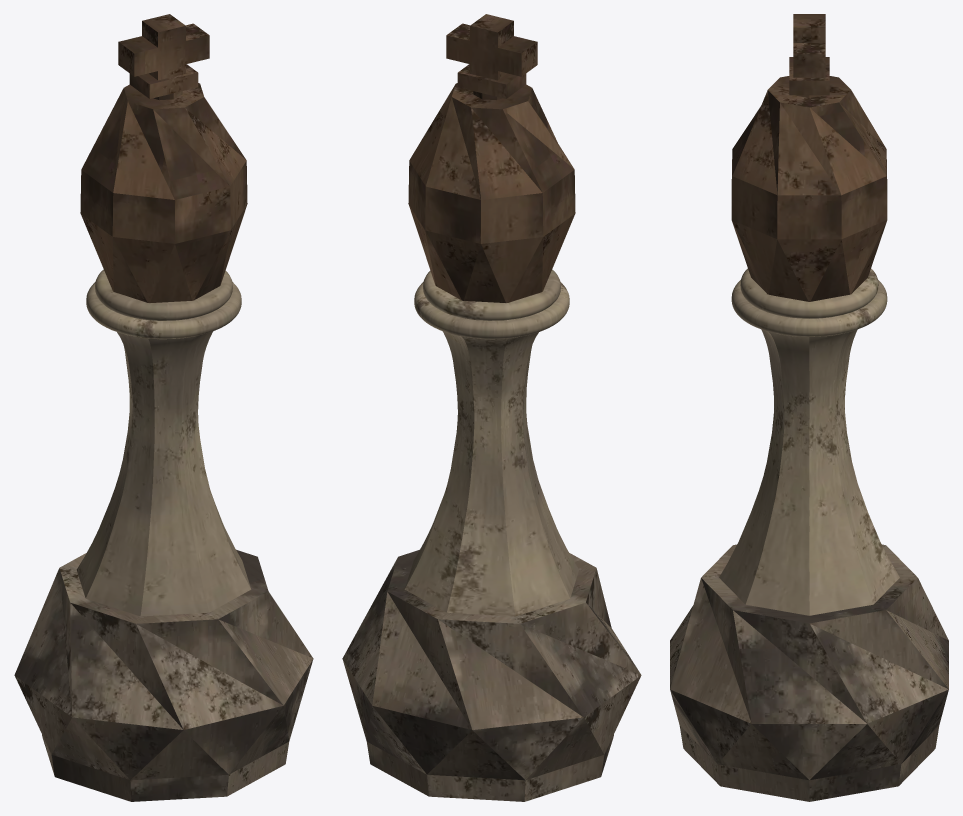
The model's file is lithoxyl_king_black.glb.
3 renders of one model, left to right at view 1: azimuth 30°, elevation 25°; view 2: azimuth 150°, elevation 25°; view 3: azimuth 270°, elevation 25°, orthographic.
Visible parts, largest first — view 1: Lithoxyl_King_Onyx; view 2: Lithoxyl_King_Onyx; view 3: Lithoxyl_King_Onyx.
Boxes of the visible parts, x1=… form: Lithoxyl_King_Onyx: x1=14, y1=14, x2=313, y2=801; Lithoxyl_King_Onyx: x1=342, y1=14, x2=641, y2=801; Lithoxyl_King_Onyx: x1=670, y1=14, x2=948, y2=801.
Bounding box in the file's own units: 0.033 × 0.095 × 0.033.
Materials: 3 (3 with a texture image).
